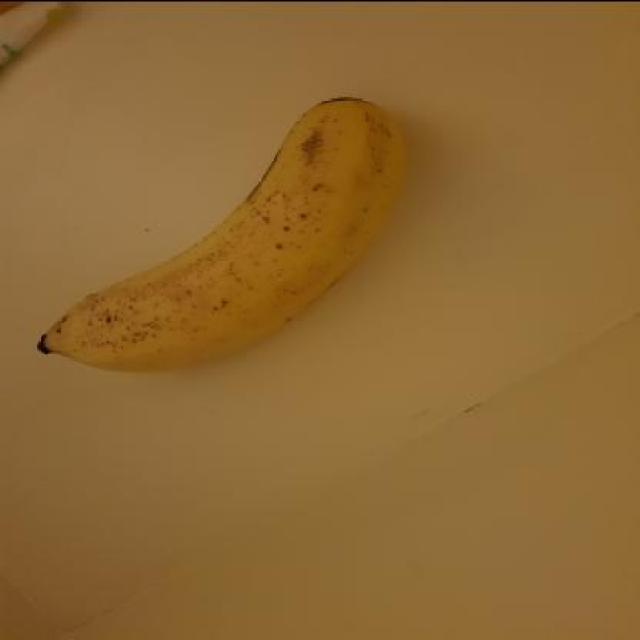Banana: (24, 83, 418, 382)
